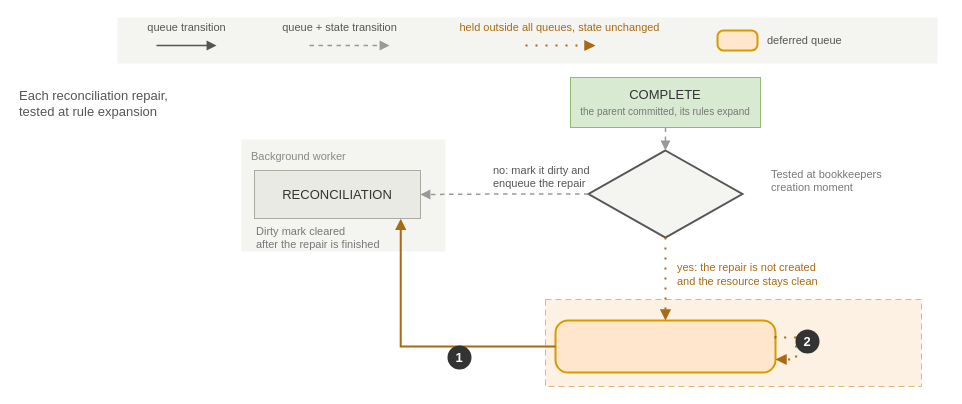
This 962x404 diagram has some shape labels left out. The centre of each missing label's shape, as x and y in pixels:
DEFERRED REPAIR QUEUE FIFO, outside the execution queues: the point at 665,346
is any target resource locked?: the point at 665,193
